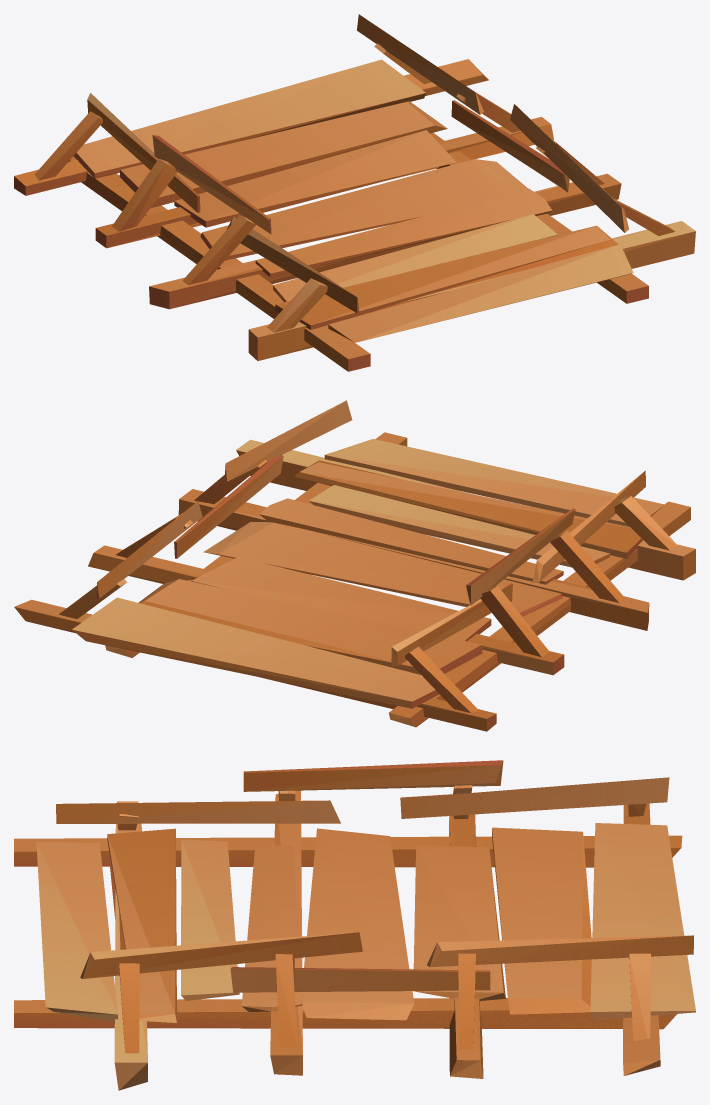
File: GL-Manmade-14-LOD3.fbx
3 renders of one model, top to bottom at view 1: azimuth 30°, elevation 25°; view 2: azimuth 150°, elevation 25°; view 3: azimuth 270°, elevation 25°, orthographic. The views are drawn at different scales.
Visible parts, largest first — view 1: GL_Manmade_14; view 2: GL_Manmade_14; view 3: GL_Manmade_14.
Boxes of the visible parts, x1,y1,x2,y2 form: GL_Manmade_14: (14,14,695,371); GL_Manmade_14: (14,400,695,731); GL_Manmade_14: (14,760,695,1090).
Size of the model in its own units: 2.17 by 0.4142 by 2.27.
